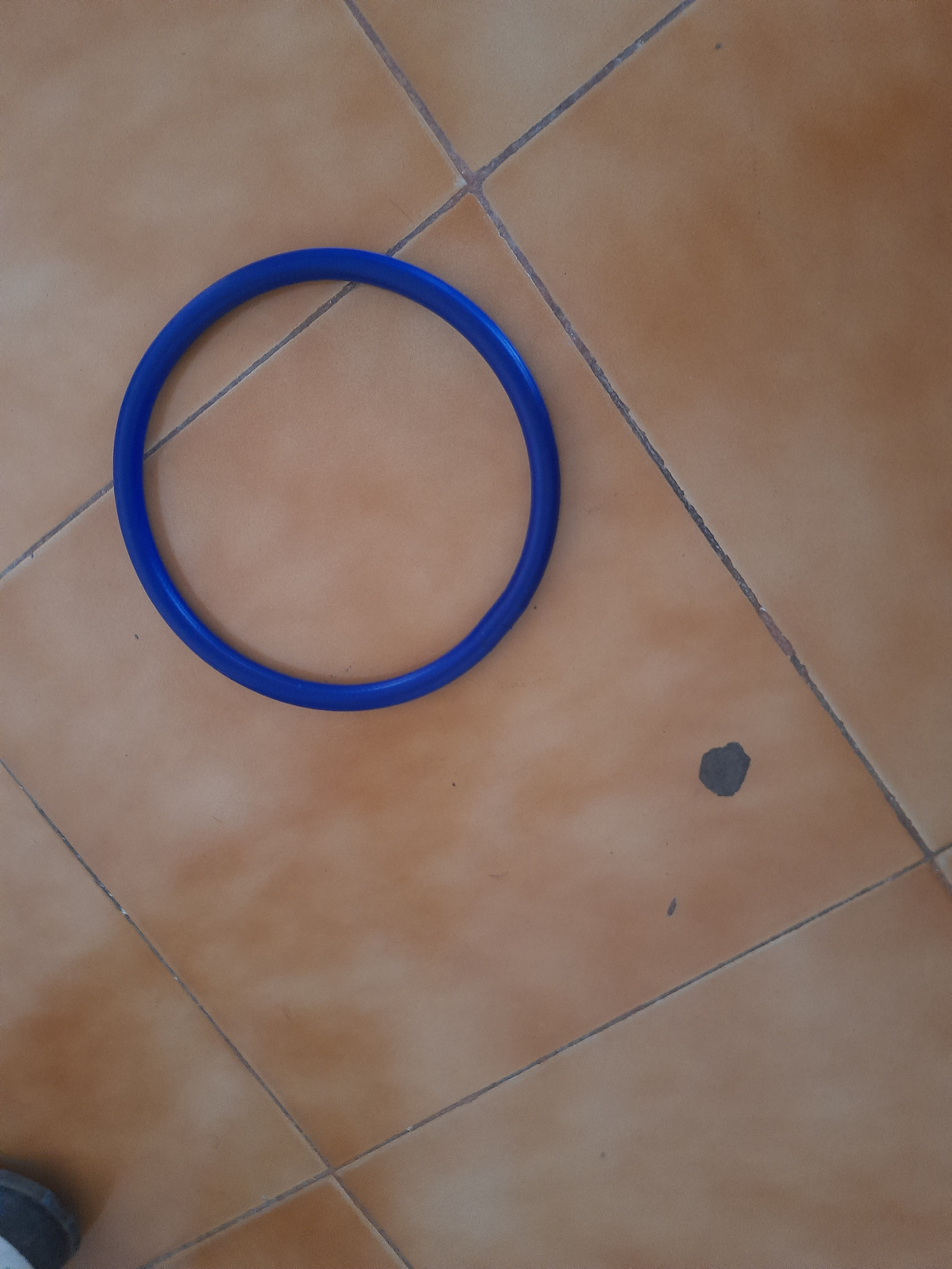Blue ring: (110, 246, 559, 707)
